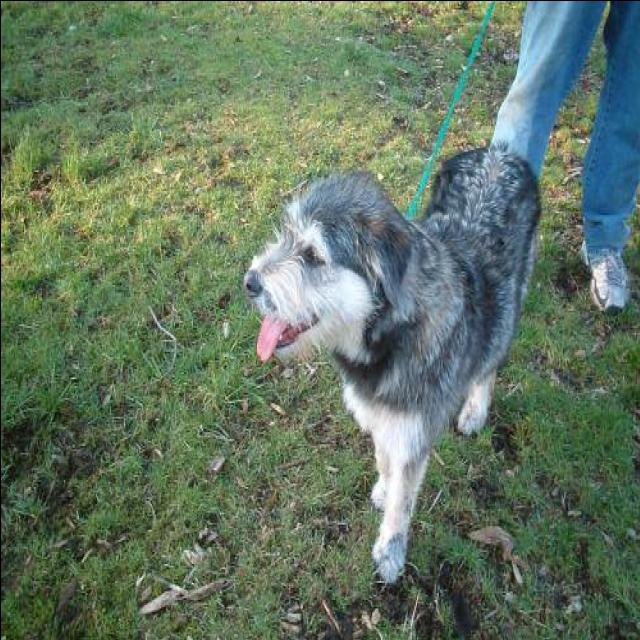dog: (232, 103, 572, 598)
